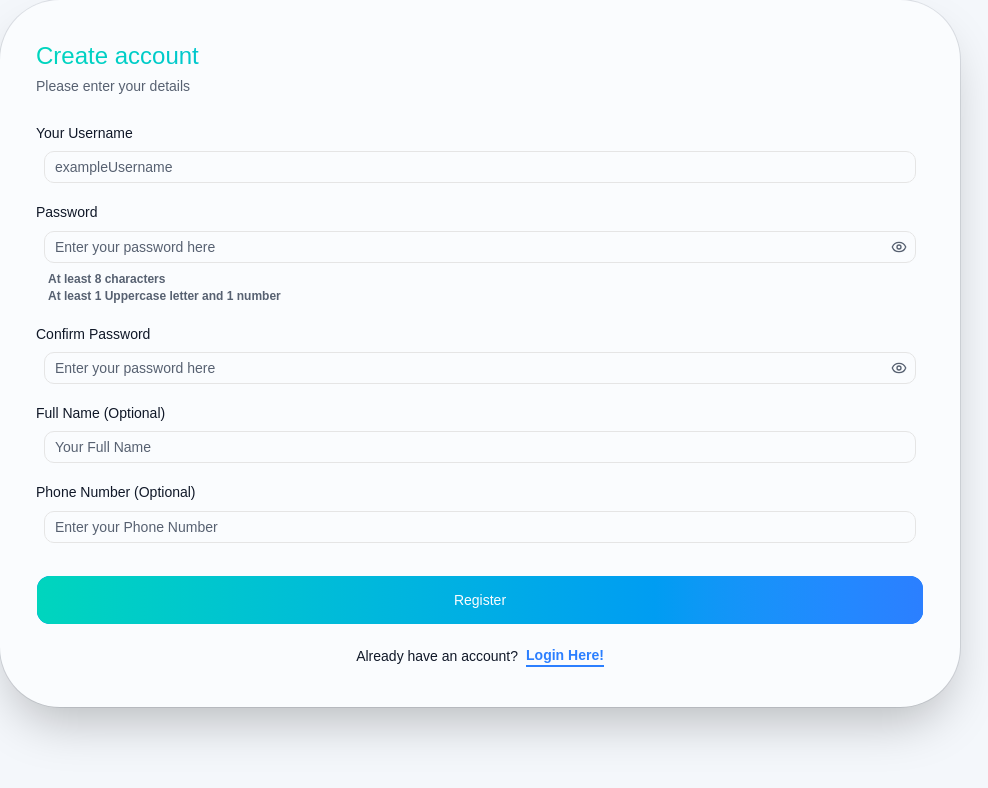
Test: Register Page › shows manual validation error when passwords do not match
Type "validUser" into the field labelled "Your Username". click: (480, 167)
box: x1=44 y1=151 x2=916 y2=183
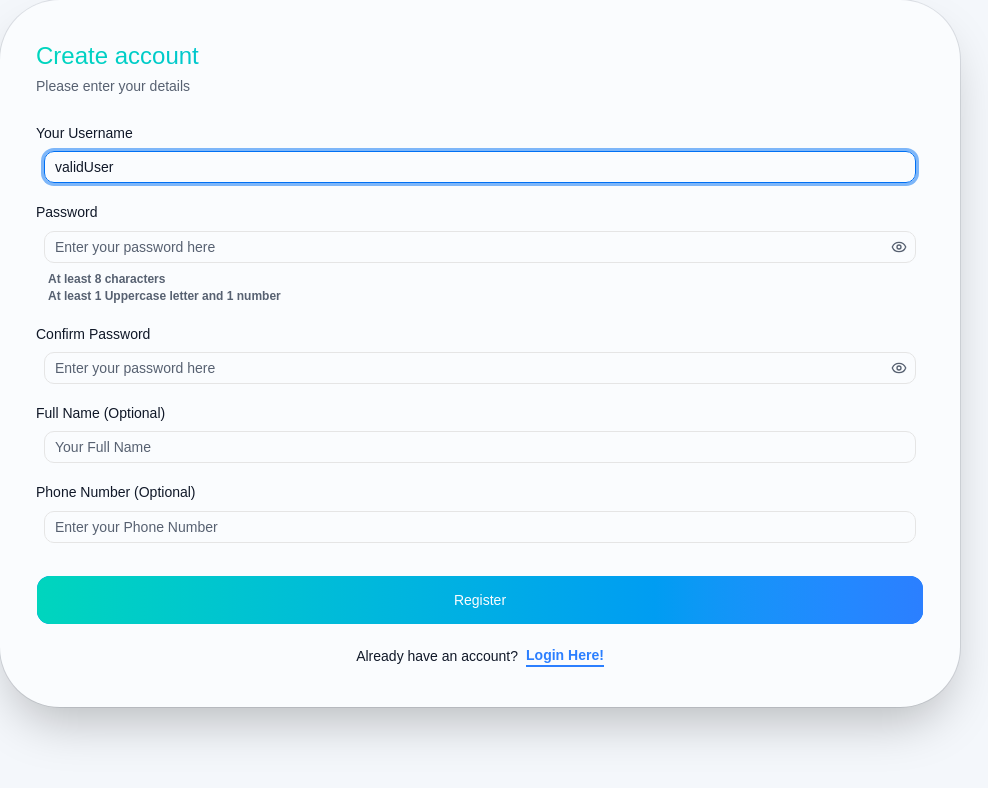
Type "ValidPass123" into the password field labelled "Password". click: (468, 246)
box: x1=45 y1=230 x2=891 y2=262
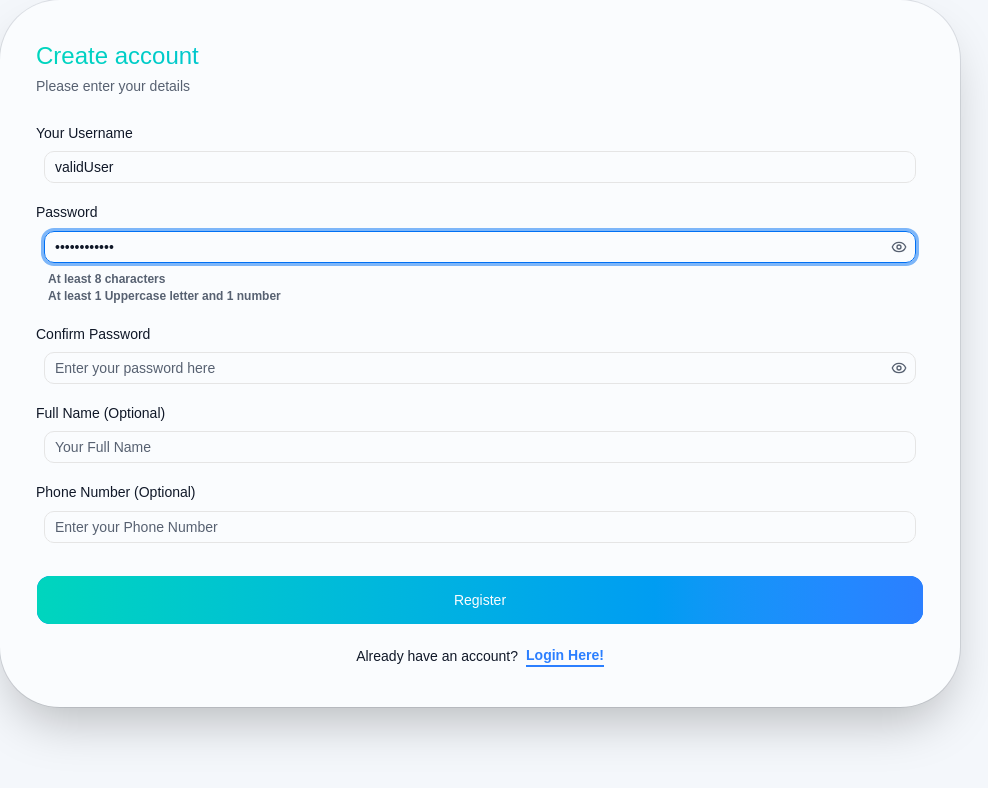
Type "DifferentPass123" into the password field labelled "Confirm Password". click: (468, 368)
box: x1=45 y1=352 x2=891 y2=384
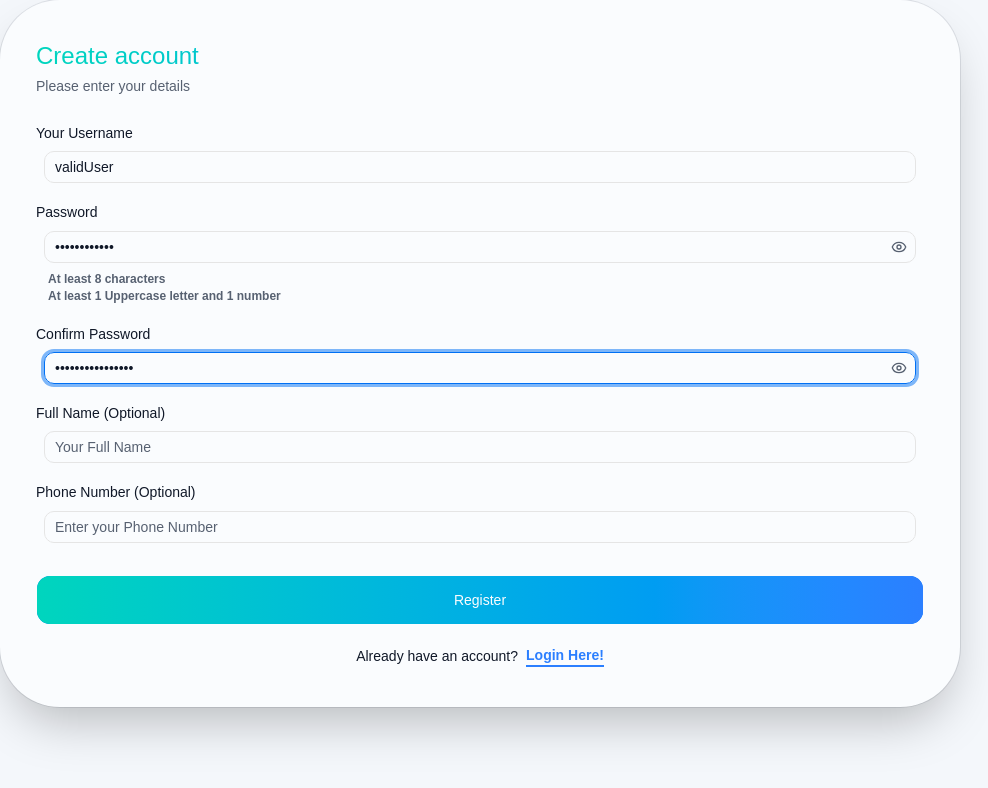
Click the button "Register". click: (480, 600)
box: x1=36 y1=574 x2=924 y2=624
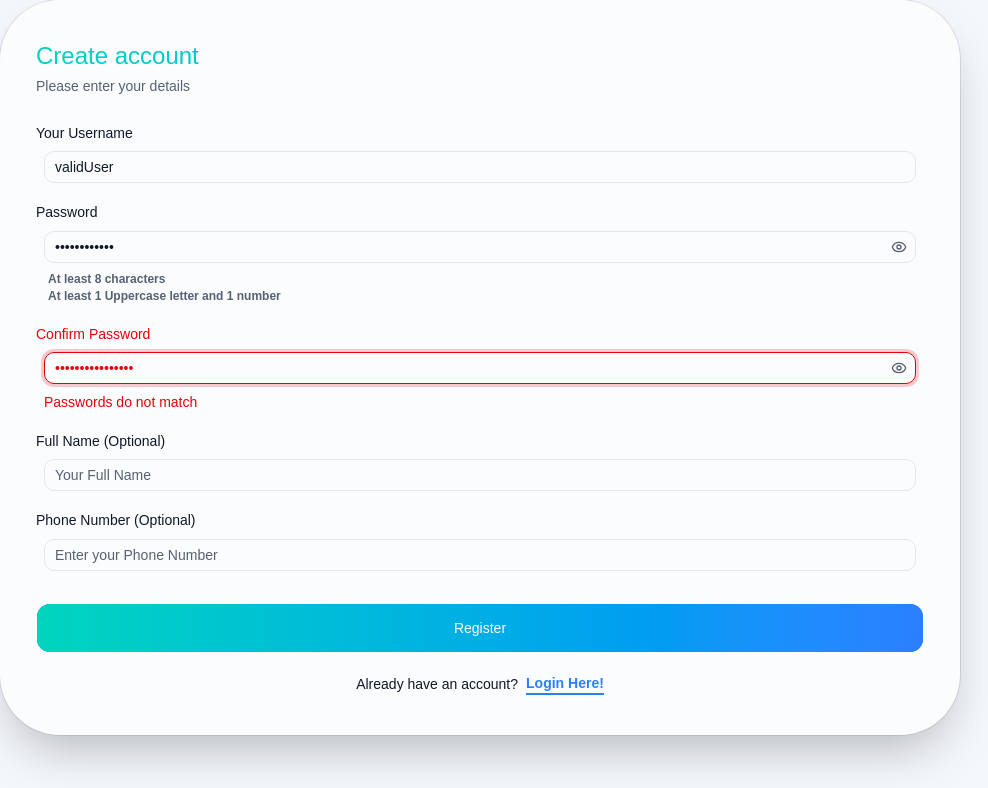
Expected: the text "Passwords do not match" is shown, x1=44 y1=394 x2=197 y2=410
